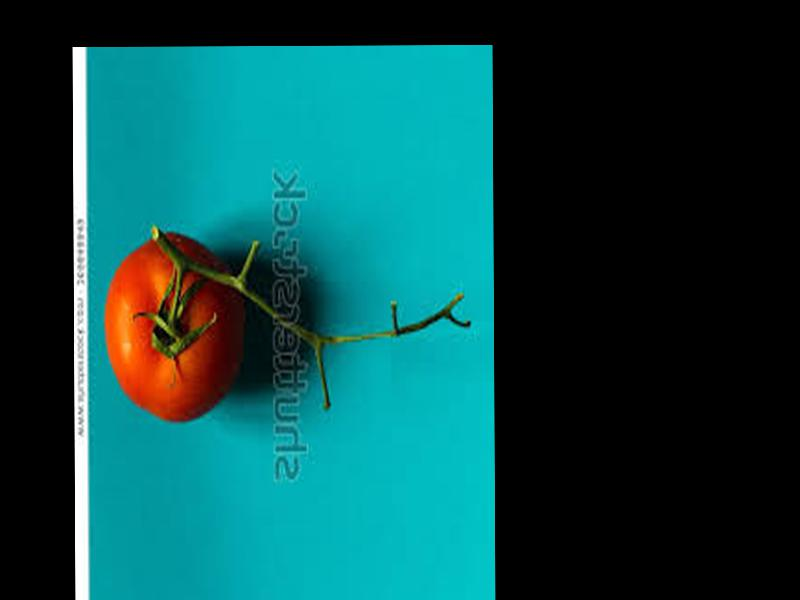Tomato: (106, 230, 241, 421)
